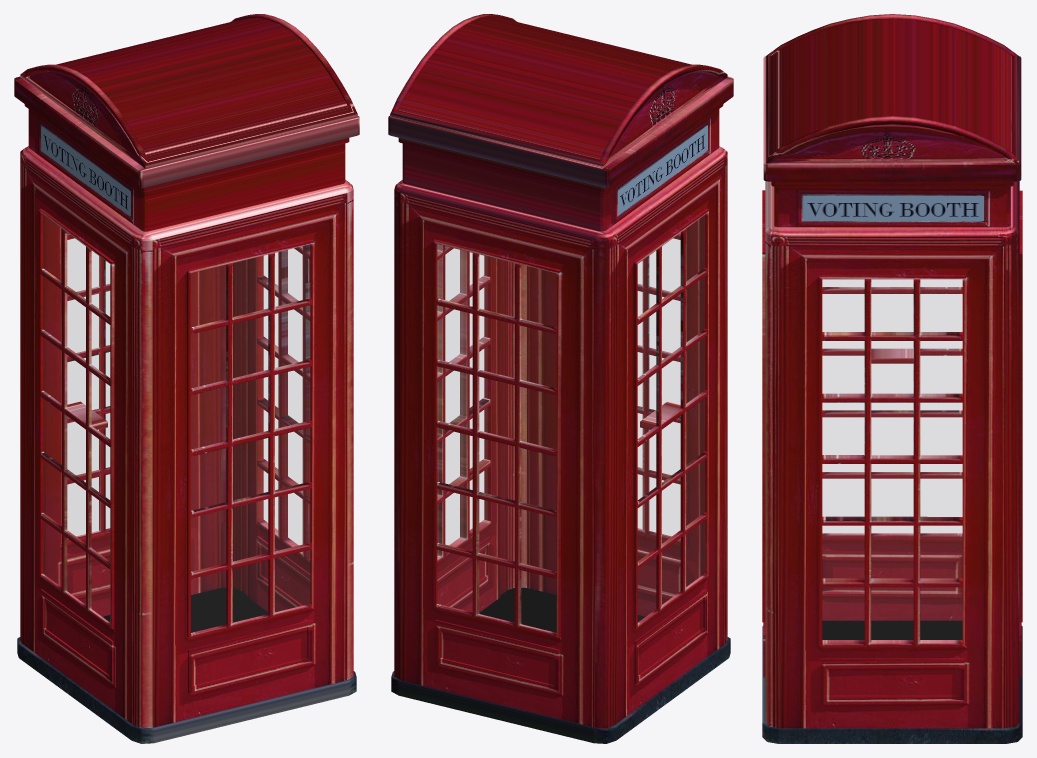
Rendered from telephone_booth_red.glb.
3 renders of one model, left to right at view 1: azimuth 30°, elevation 25°; view 2: azimuth 150°, elevation 25°; view 3: azimuth 270°, elevation 25°, orthographic.
Visible parts, largest first — view 1: Booth, BoothDoor; view 2: Booth, BoothDoor; view 3: Booth, BoothDoor.
Part boxes in pixels (<box>): Booth: <box>14,14,359,743</box>; BoothDoor: <box>247,244,310,612</box>; Booth: <box>388,14,733,743</box>; BoothDoor: <box>437,244,500,612</box>; Booth: <box>762,14,1022,743</box>; BoothDoor: <box>797,254,987,728</box>.
Size of the model in its own units: 1.16 by 3.07 by 1.16.
3 materials, 1 textured.
